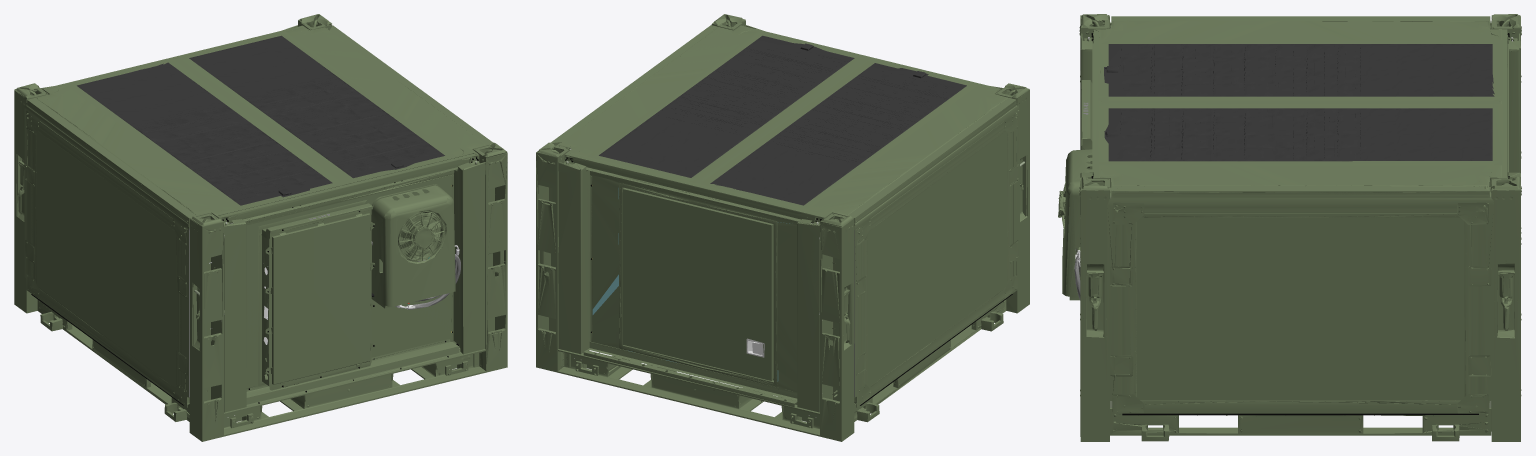
The model's file is trecc-stowed.glb.
3 views of the same model, side by side, from view 1: azimuth 30°, elevation 25°; view 2: azimuth 150°, elevation 25°; view 3: azimuth 270°, elevation 25° (orthographic). The views are drawn at different scales.
Parts seen in each view (by area): view 1: Solid2_222; view 2: Solid2_222; view 3: Solid2_222.
Part boxes in pixels (x1,y1,x2,y2): Solid2_222: (14,14,507,441); Solid2_222: (536,14,1029,441); Solid2_222: (1058,14,1521,441).
Size of the model in its own units: 2.17 by 1.45 by 2.39.
